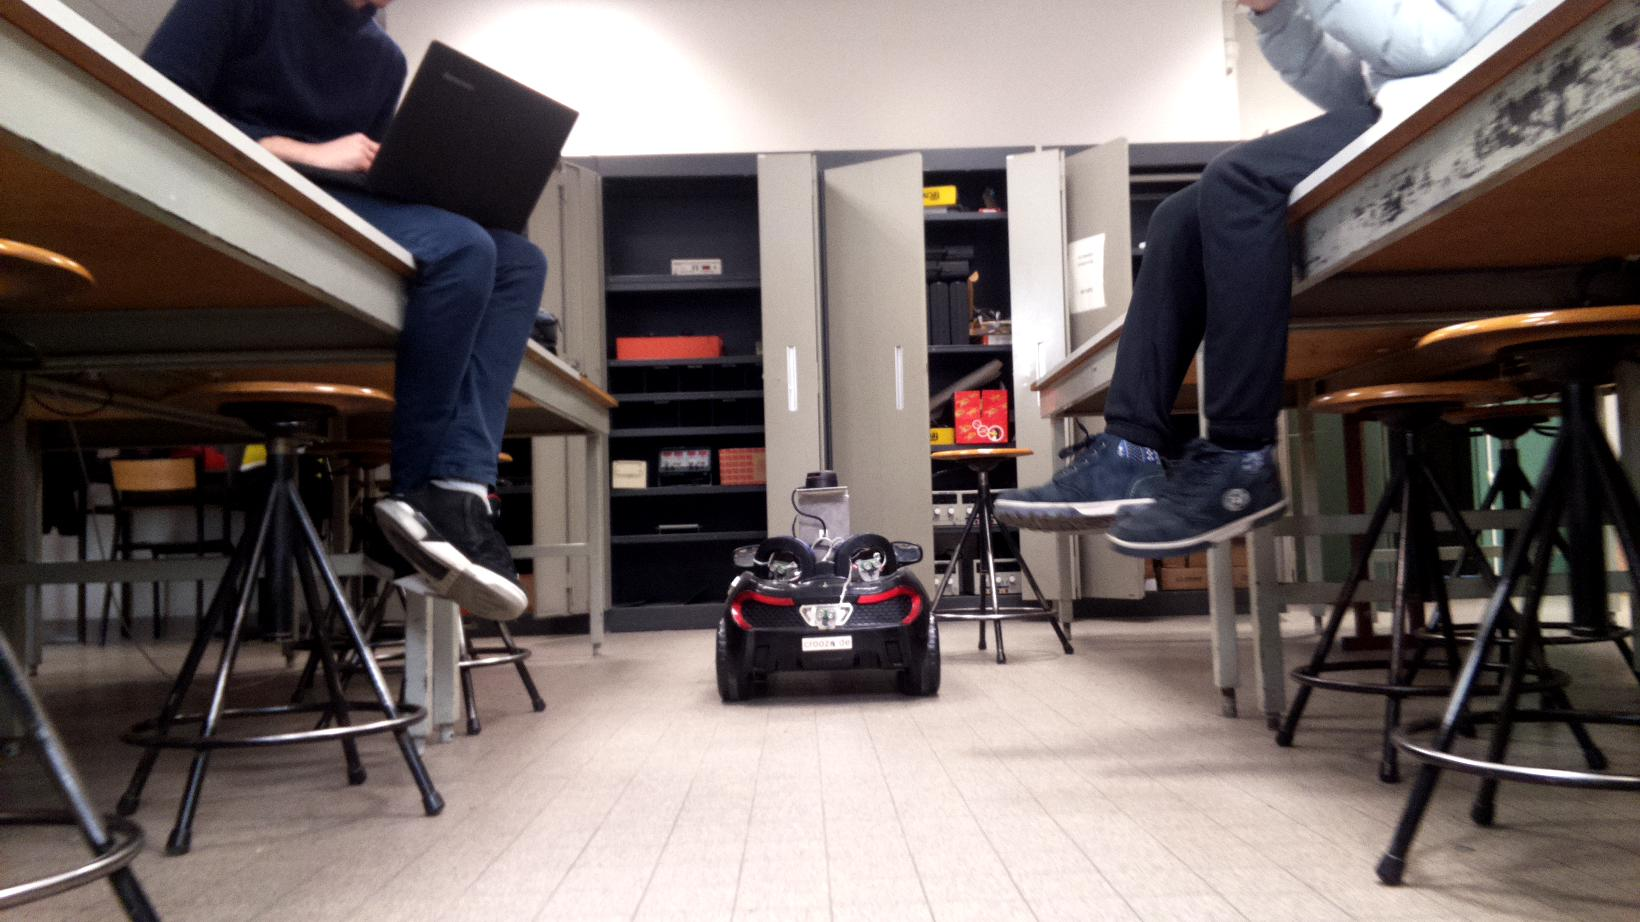big: (715, 469, 947, 698)
